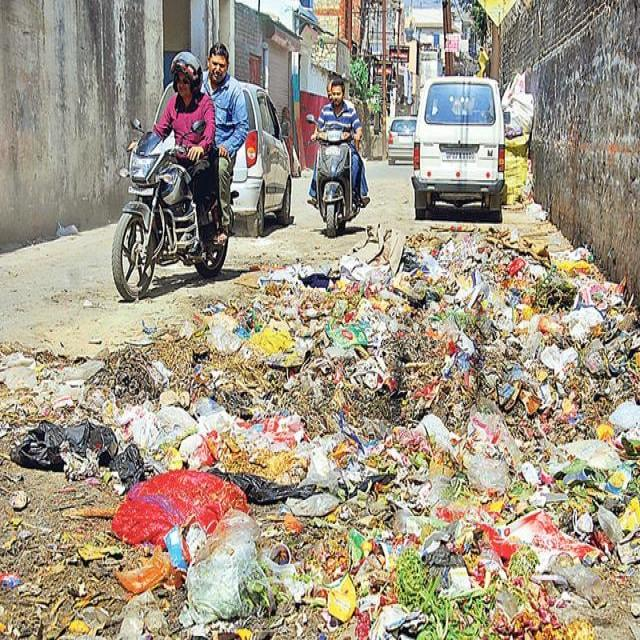garbage: (3, 229, 640, 639)
